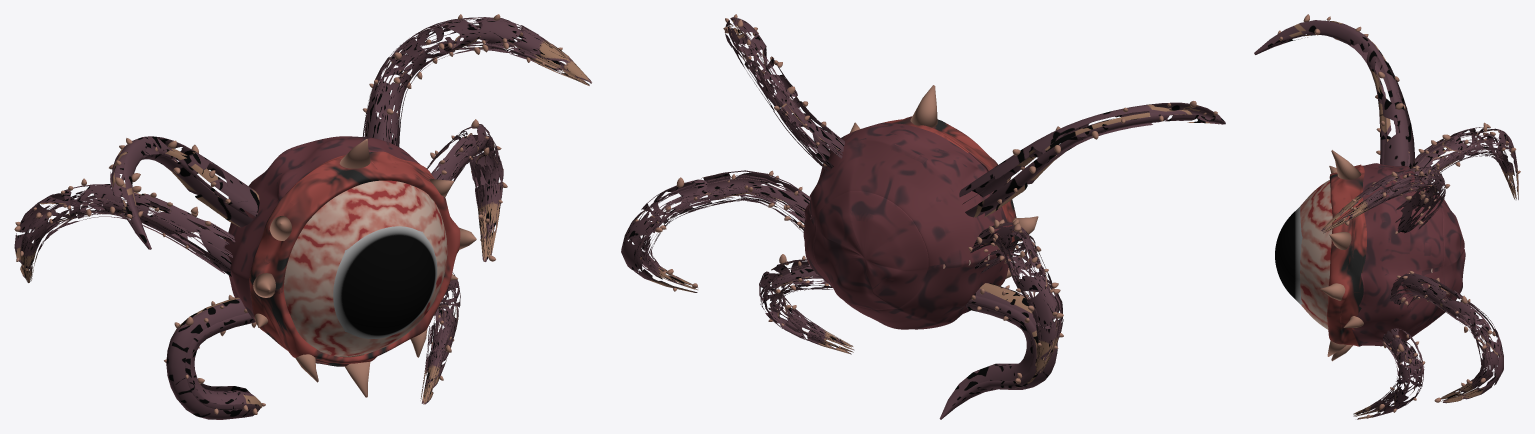
Rendered from Eyeball.fbx.
3 views of the same model, side by side, from view 1: azimuth 30°, elevation 25°; view 2: azimuth 150°, elevation 25°; view 3: azimuth 270°, elevation 25° (orthographic). The views are drawn at different scales.
Visible parts, largest first — view 1: Sclera, EyeFlesh, Tentacle.003, Tentacle.001, Tentacle, Tentacle.002, Tentacle.004, Tentacle.005, FleshSpike.004, FleshSpike.001, FleshSpike, FleshSpike.003; view 2: EyeFlesh, Tentacle.004, Tentacle, Tentacle.001, Tentacle.002, Tentacle.003, Tentacle.005, FleshSpike.004; view 3: EyeFlesh, Sclera, Tentacle, Tentacle.004, Tentacle.003, Tentacle.001, Tentacle.005, FleshSpike.004, FleshSpike, FleshSpike.001.
Part boxes in pixels (x1,y1,x2,y2): Sclera: [283, 180, 447, 356]; EyeFlesh: [224, 136, 460, 366]; Tentacle.003: [362, 14, 591, 146]; Tentacle.001: [14, 178, 235, 282]; Tentacle: [109, 136, 259, 249]; Tentacle.002: [164, 295, 265, 419]; Tentacle.004: [426, 124, 507, 261]; Tentacle.005: [420, 272, 460, 404]; FleshSpike.004: [339, 139, 370, 397]; FleshSpike.001: [253, 227, 476, 297]; FleshSpike: [269, 179, 453, 240]; FleshSpike.003: [295, 329, 427, 382]; EyeFlesh: [803, 116, 1019, 329]; Tentacle.004: [621, 170, 811, 292]; Tentacle: [959, 101, 1225, 217]; Tentacle.001: [968, 218, 1063, 373]; Tentacle.002: [939, 283, 1057, 419]; Tentacle.003: [723, 14, 844, 170]; Tentacle.005: [759, 256, 854, 354]; FleshSpike.004: [910, 85, 937, 127]; EyeFlesh: [1327, 163, 1465, 346]; Sclera: [1275, 180, 1432, 329]; Tentacle: [1254, 14, 1414, 170]; Tentacle.004: [1389, 271, 1503, 403]; Tentacle.003: [1321, 166, 1450, 234]; Tentacle.001: [1413, 122, 1520, 199]; Tentacle.005: [1353, 328, 1425, 419]; FleshSpike.004: [1331, 150, 1361, 361]; FleshSpike: [1329, 166, 1351, 249]; FleshSpike.001: [1320, 283, 1345, 300].
Bounding box in the file's own units: 1416 × 960 × 795.
